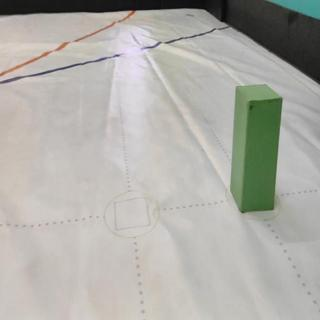greenbox: (231, 85, 285, 214)
